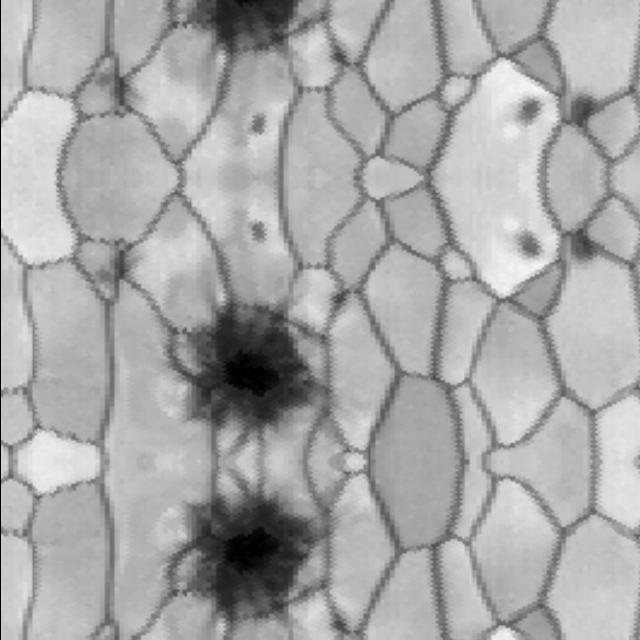good_void: (172, 300, 326, 437), (172, 487, 326, 624), (172, 0, 321, 54), (93, 236, 151, 300), (93, 54, 151, 118), (562, 216, 605, 274), (562, 80, 605, 138), (505, 225, 550, 271), (505, 83, 550, 129), (327, 278, 361, 315), (327, 39, 361, 76), (246, 210, 275, 247), (246, 107, 275, 144), (327, 609, 361, 640)
